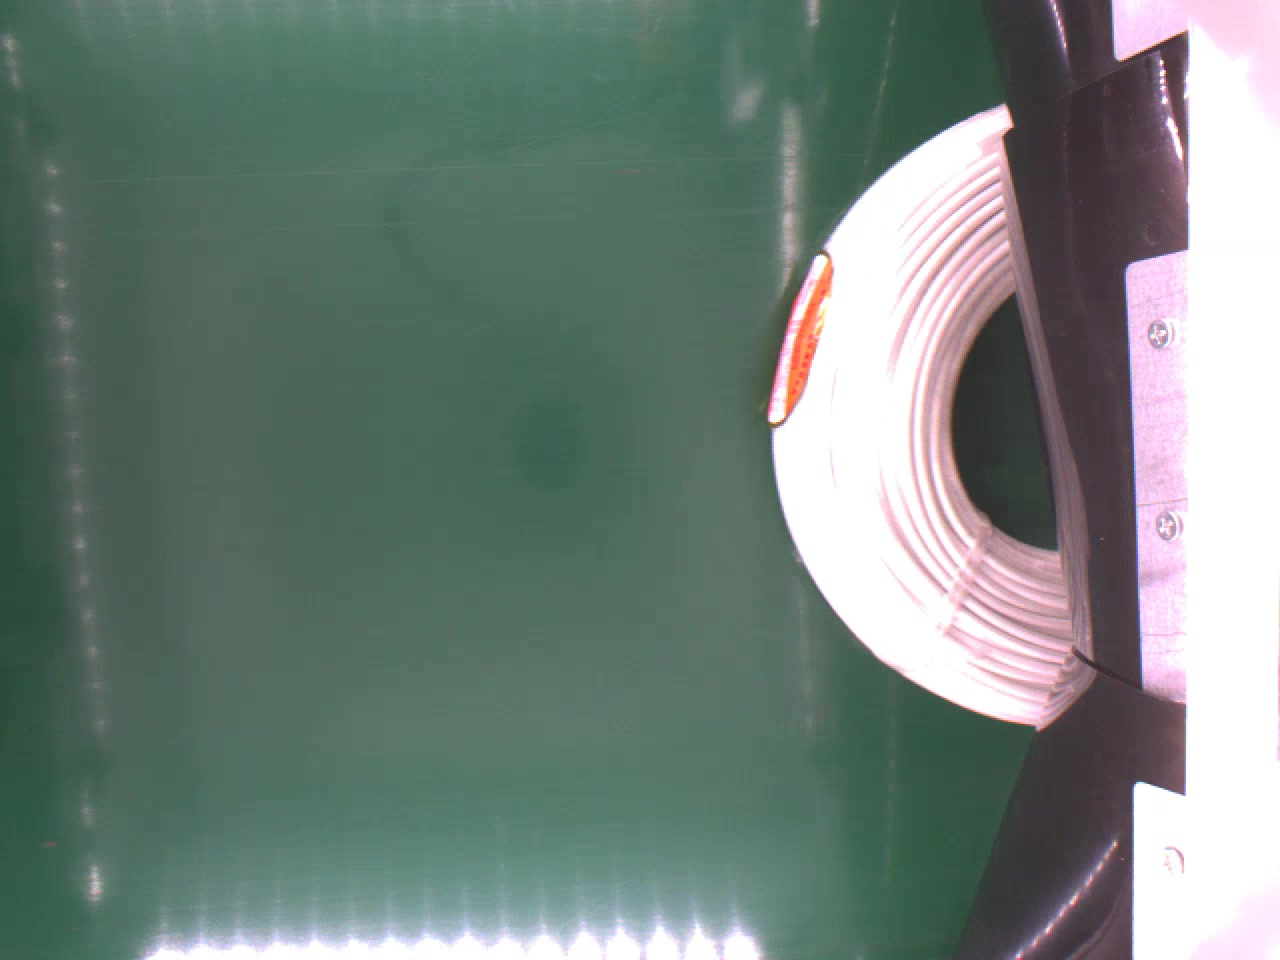white: (764, 100, 1065, 726)
